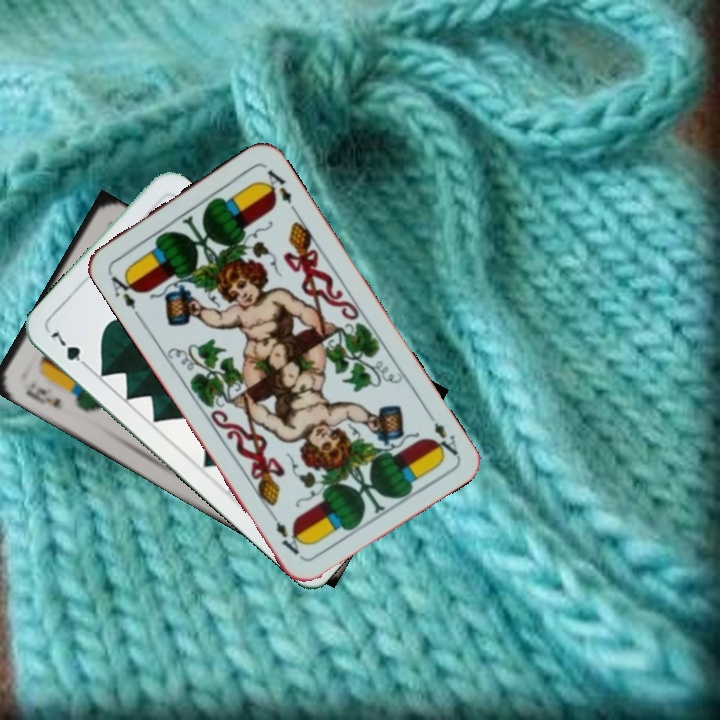EA: (421, 406, 462, 461), (104, 267, 143, 320)
EK: (21, 383, 65, 411)
G7: (46, 327, 93, 372)
